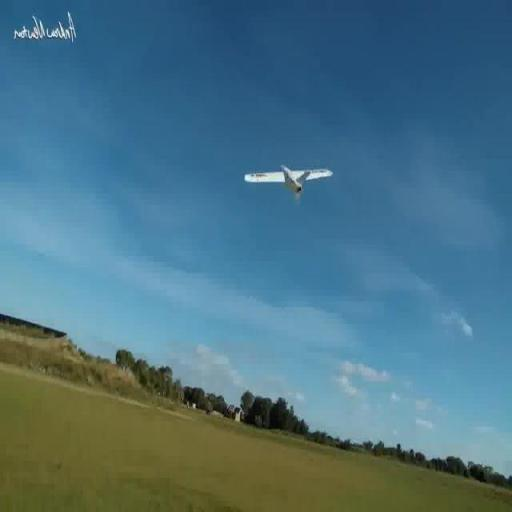uav: (233, 114, 350, 238)
